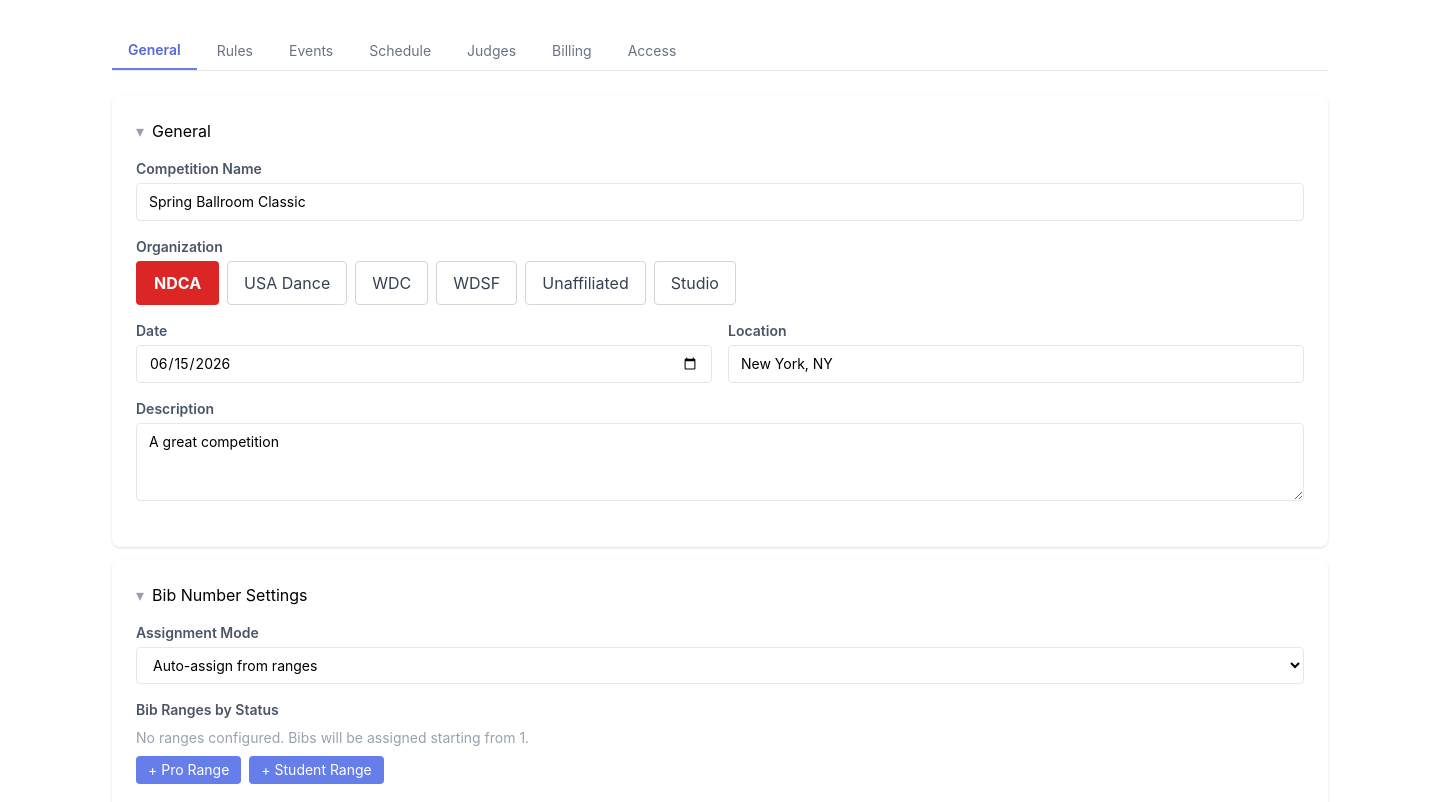
it: CompetitionSettingsPage › should show level configuration in Rules & Scoring section
Click the Rules tab to reveal Rules & Scoring section
Click the button "Rules" at (235, 51), box [201,32,269,70]
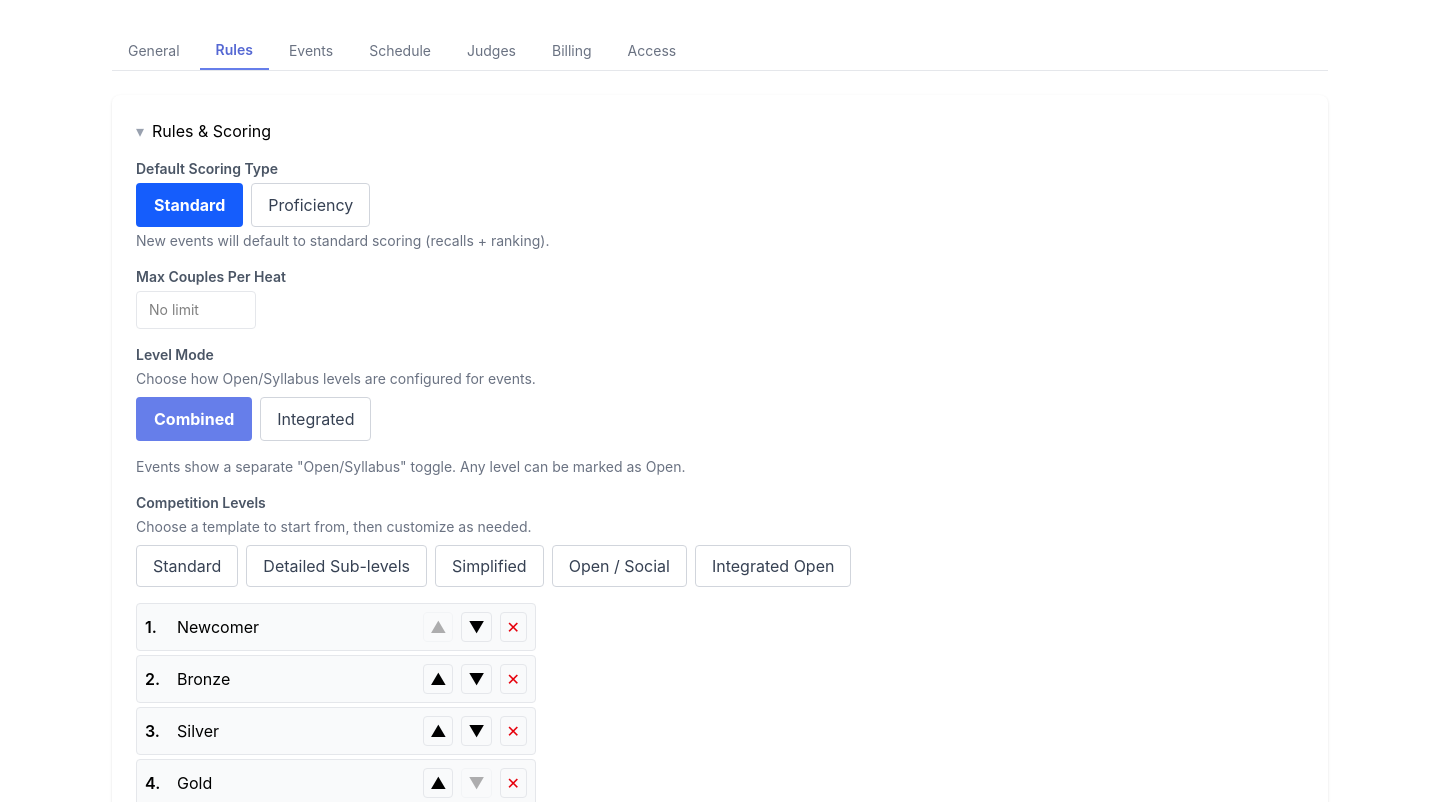
Expected: the heading "▾Rules & Scoring" is shown, [136,119,271,143]
Expected: the text "Competition Levels" is shown, [136,494,266,511]
Expected: the text "Newcomer" is shown, [177,617,259,637]
